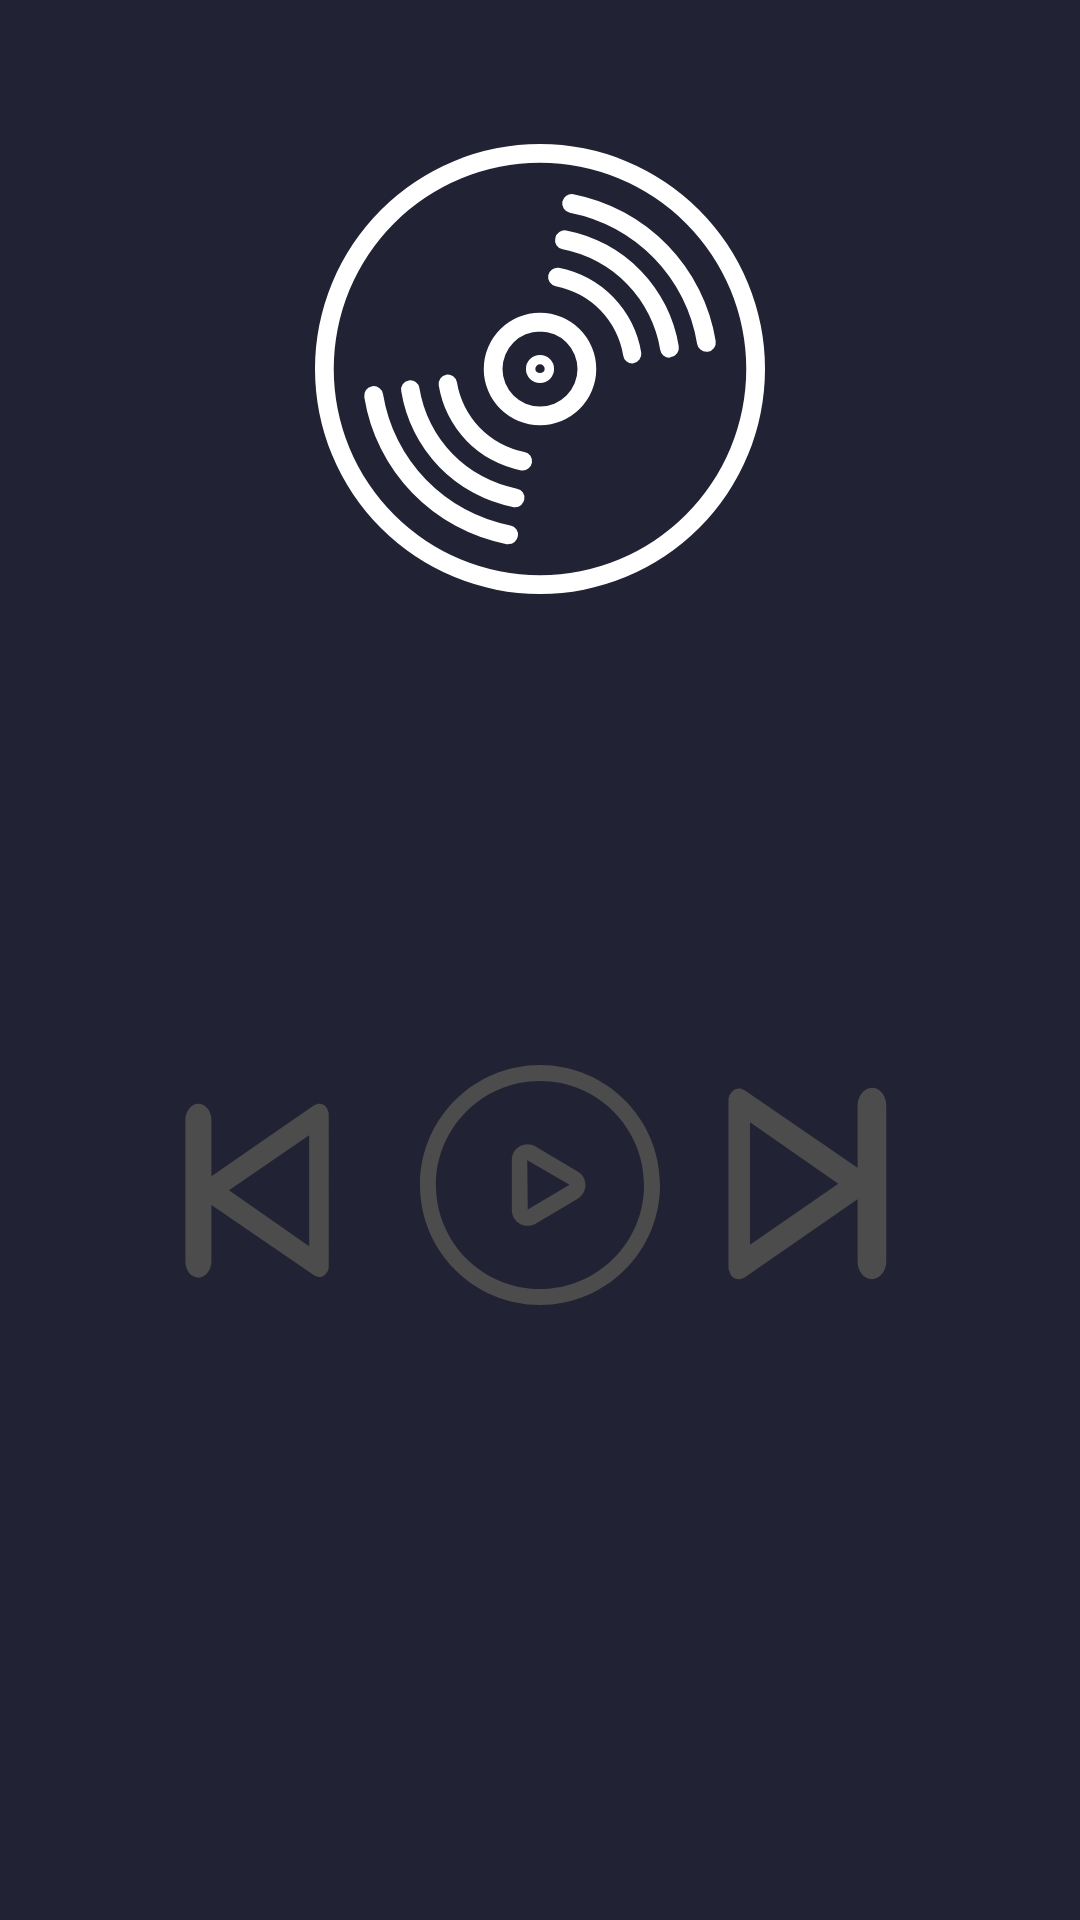

Icon click points for this 1080 x 1920 phone screenshot, format [x,y]:
play: [540,1185]
